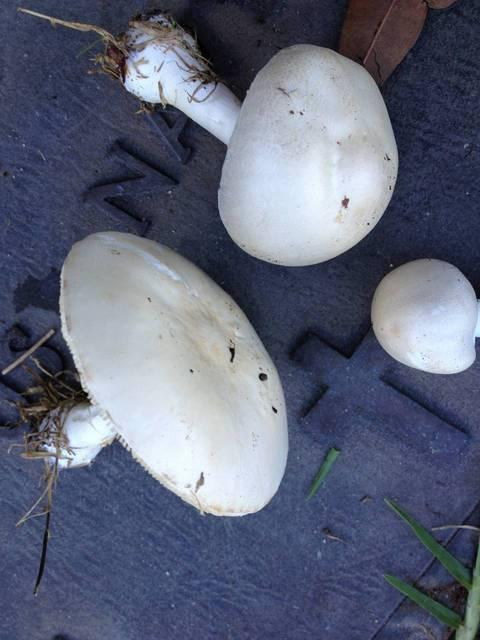poisonous_mushroom: (113, 9, 400, 267), (56, 228, 290, 518), (369, 256, 479, 375)
